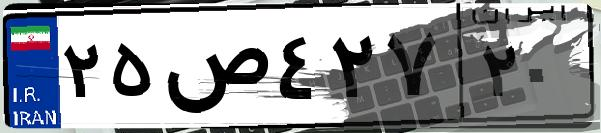0: (525, 38, 570, 115)
2: (330, 28, 385, 110), (57, 26, 110, 100), (475, 38, 525, 113)
4: (270, 28, 330, 110)
5: (110, 28, 158, 98)
7: (385, 28, 445, 110)
ص: (158, 20, 270, 120)
